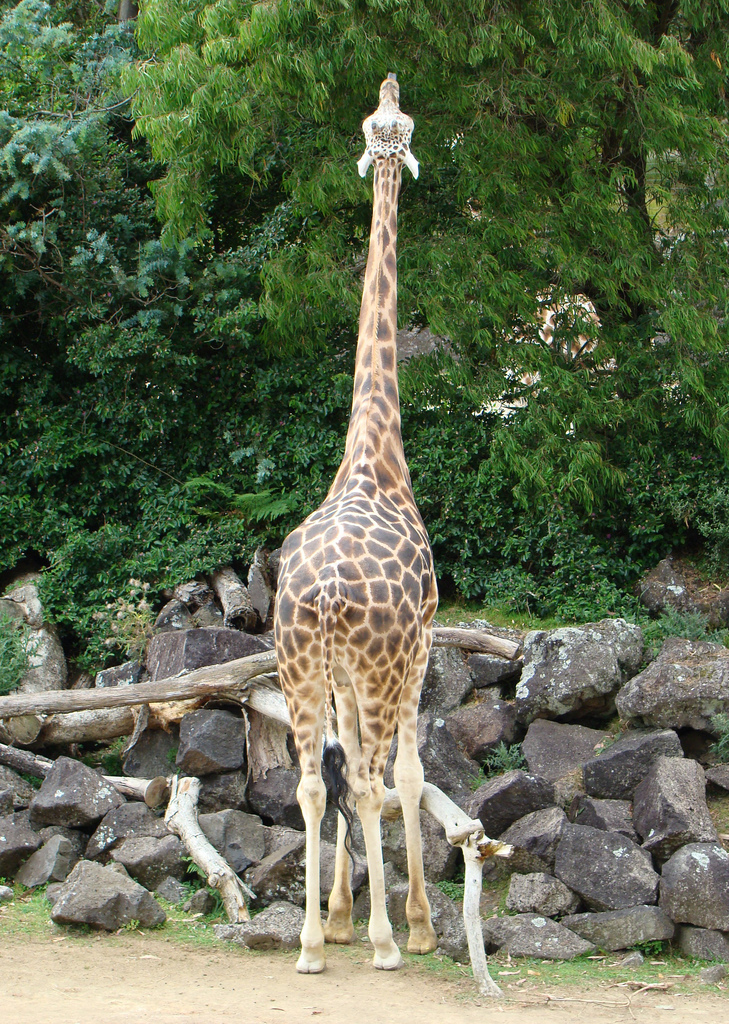giraffe: (278, 52, 477, 982)
